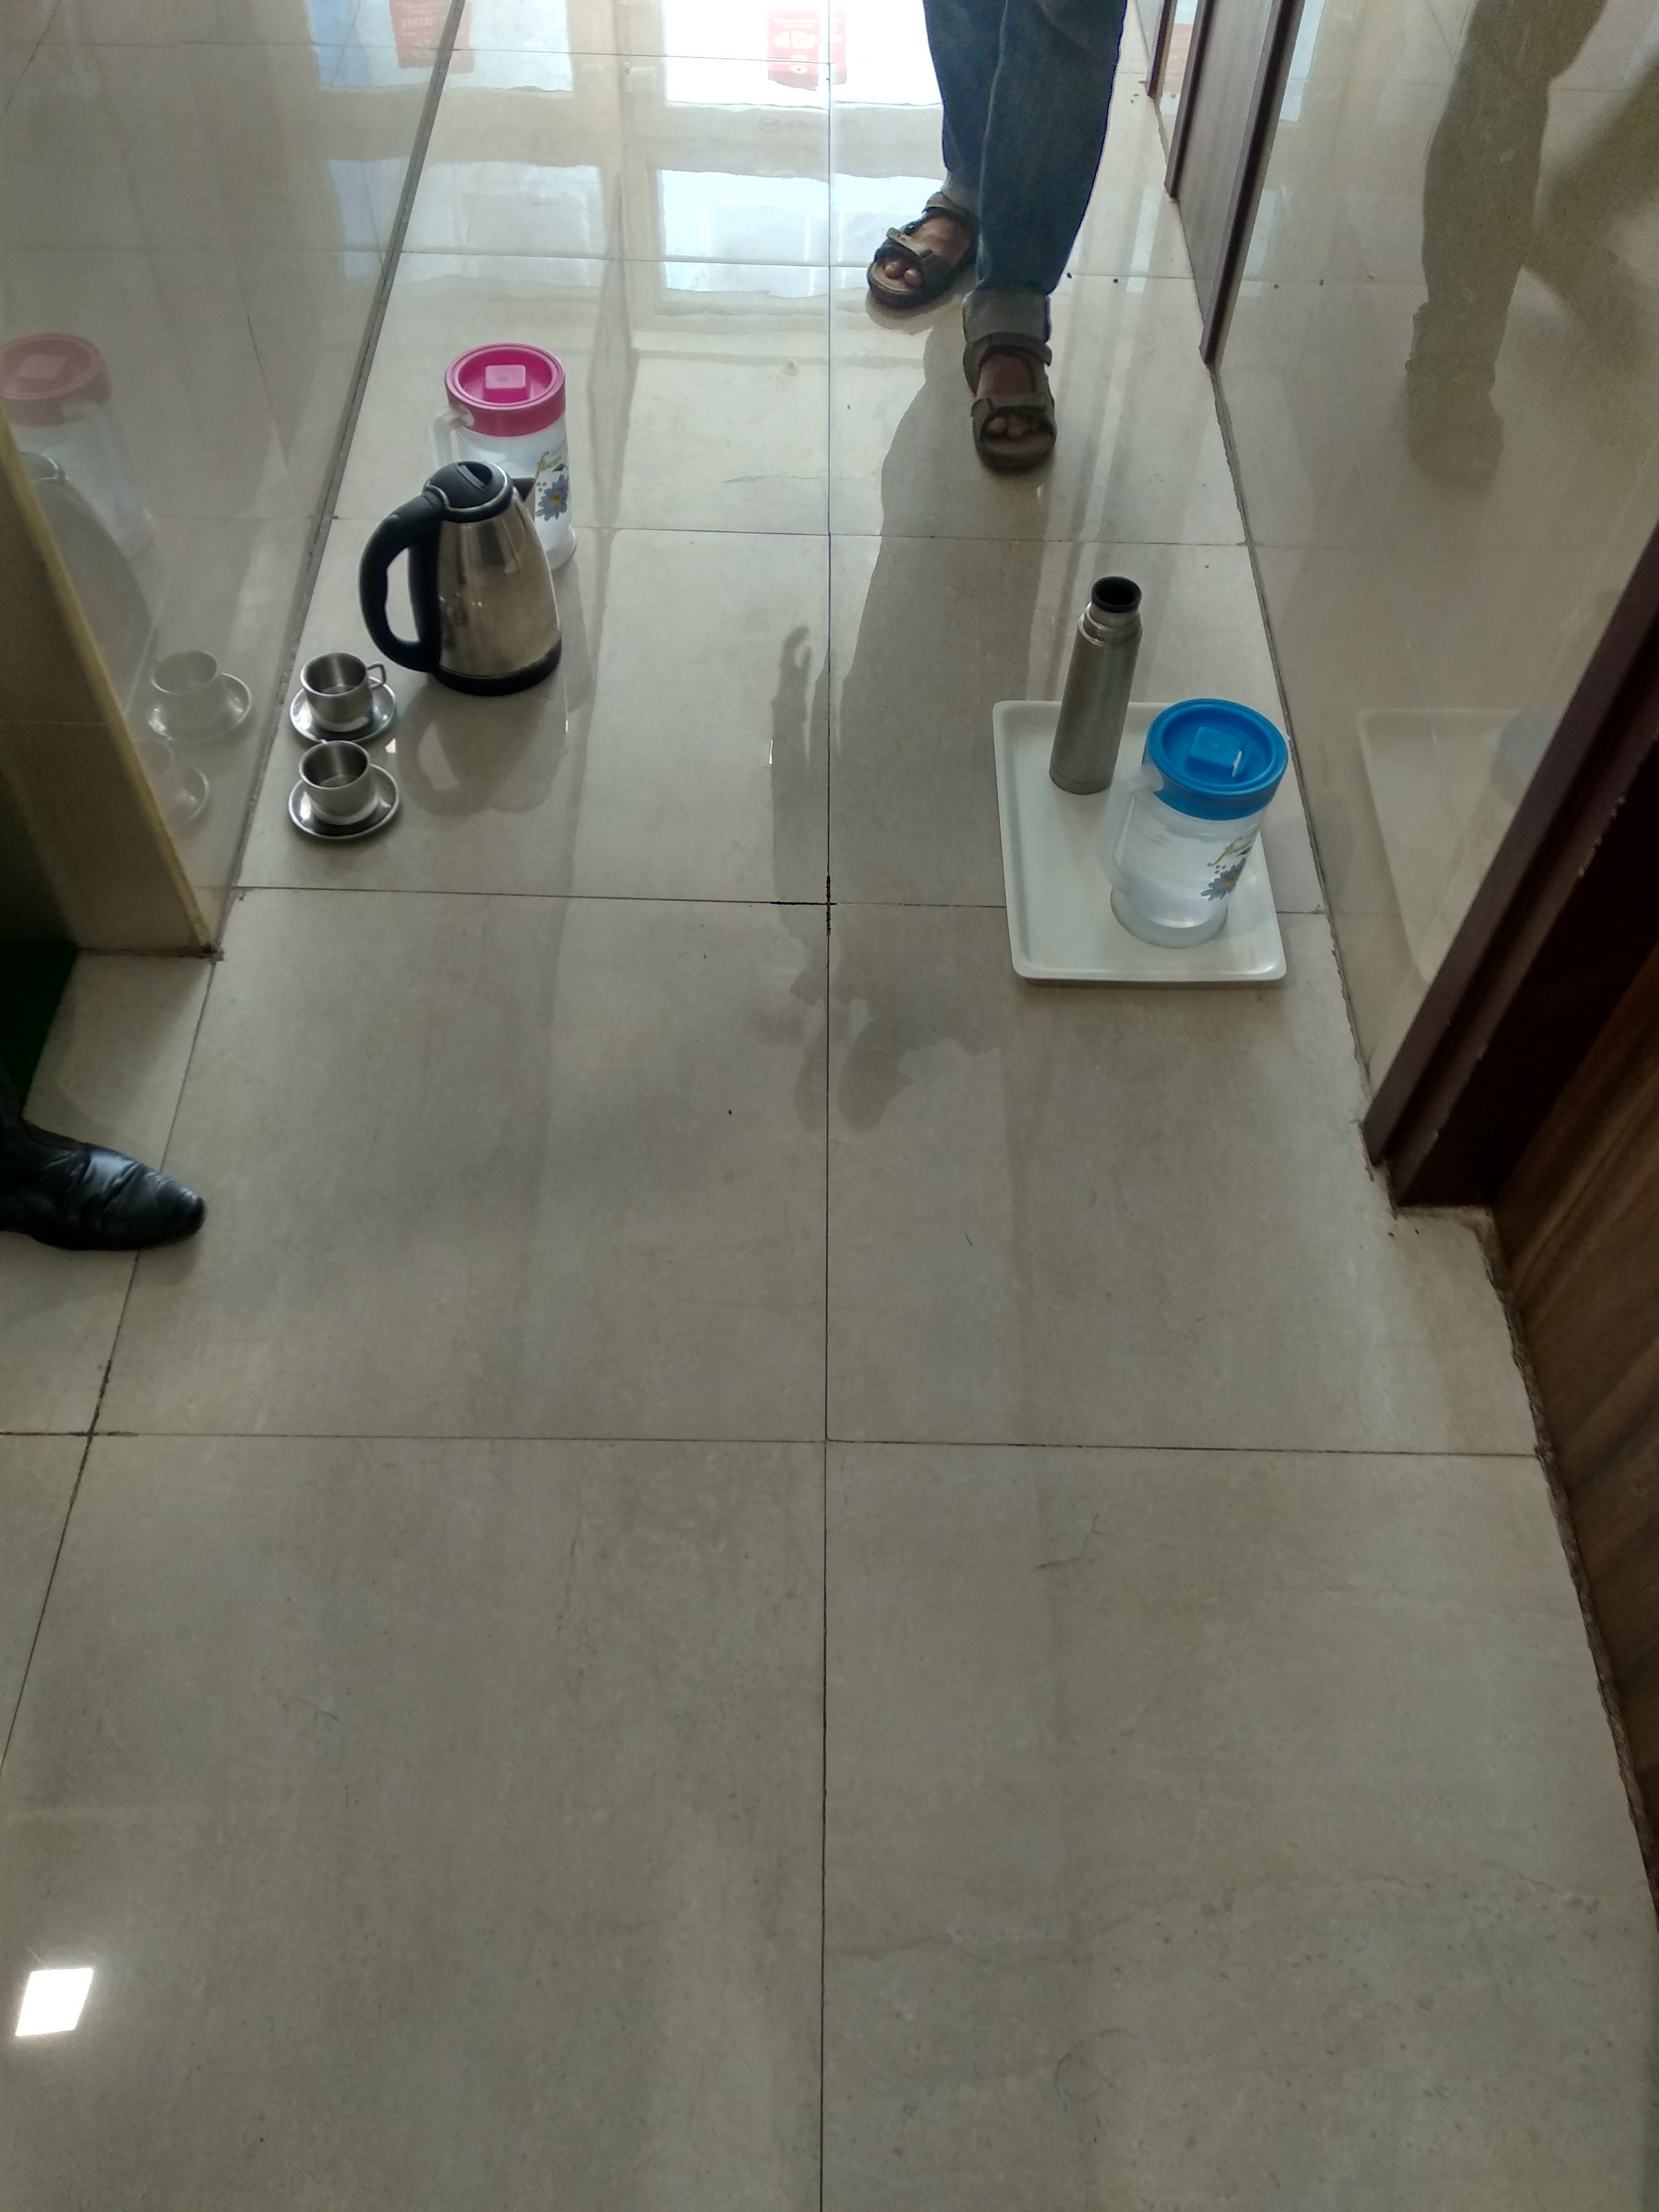CUP: (281, 740, 401, 840), (286, 644, 399, 740)
FLASK: (1058, 542, 1154, 805)
JUG: (349, 460, 579, 690), (1101, 676, 1284, 960), (427, 326, 584, 456)
